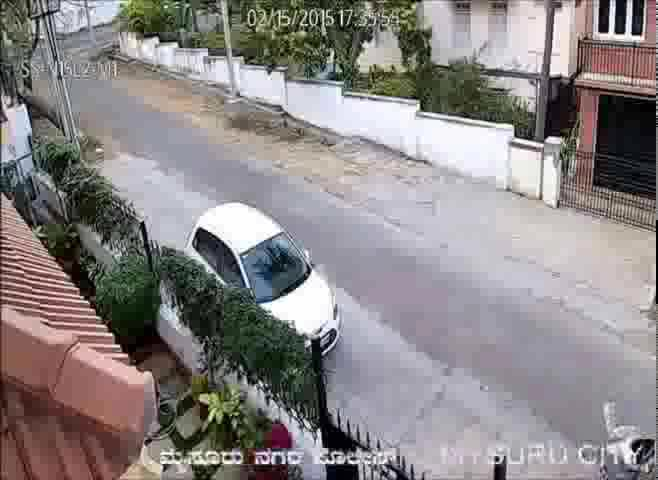snatching objects: (583, 374, 658, 479)
